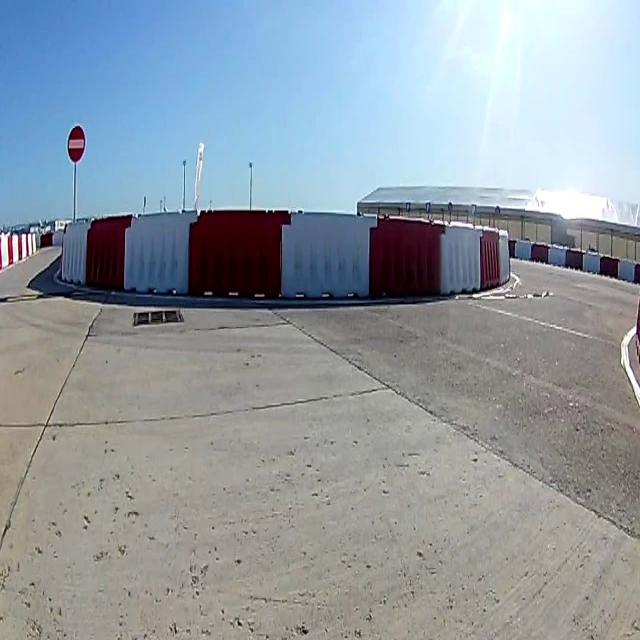girisyok: (67, 126, 85, 161)
